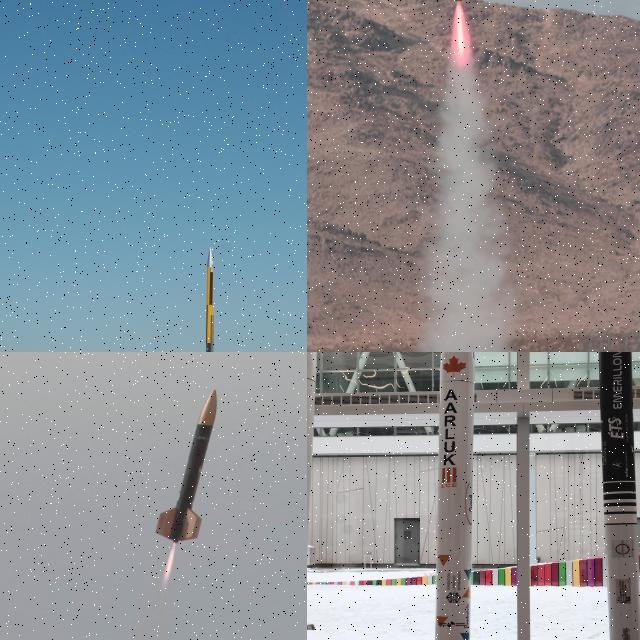Rocket: (599, 352, 640, 640), (435, 352, 475, 640), (153, 386, 219, 545), (199, 246, 223, 352)
